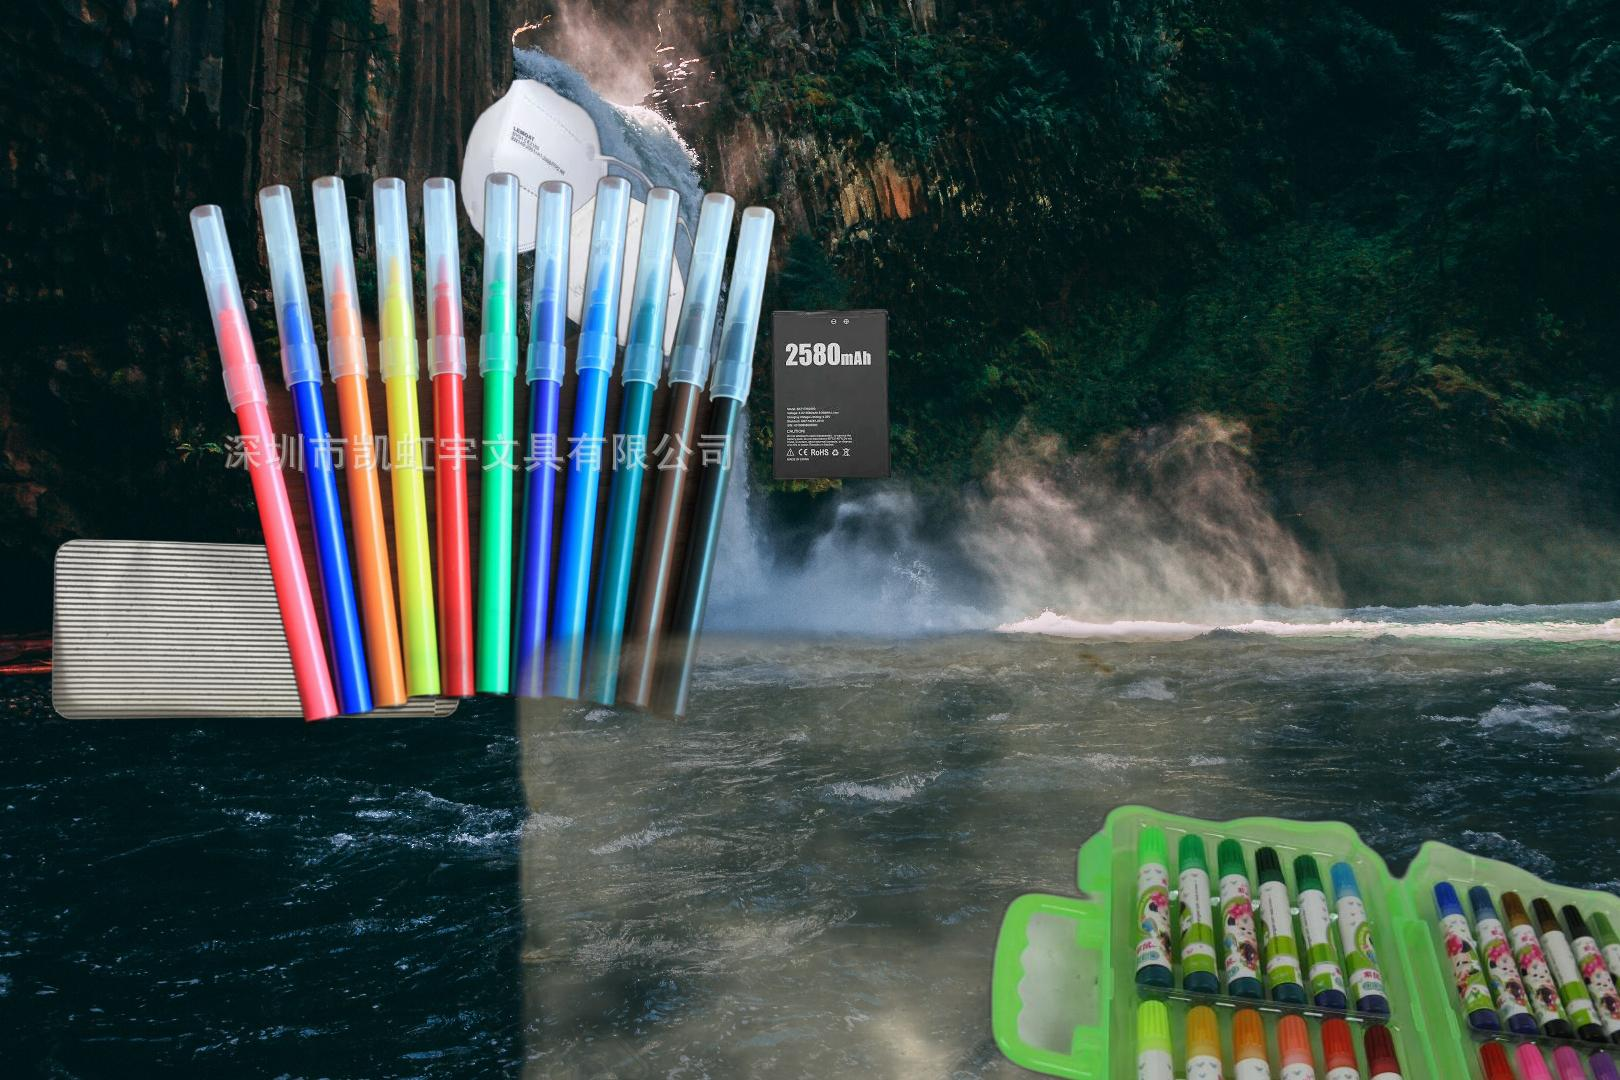battery: (769, 306, 894, 482)
paper: (47, 535, 470, 723)
penholder: (183, 168, 781, 734), (984, 802, 1620, 1080)
plastic-bottles: (1493, 542, 1620, 1080)
trash: (457, 66, 661, 259), (494, 183, 700, 359)
trashbox-cardboard: (491, 609, 1620, 1080)
